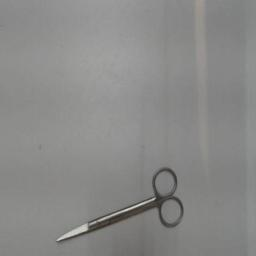Curved Mayo Scissors: (52, 162, 188, 246)
